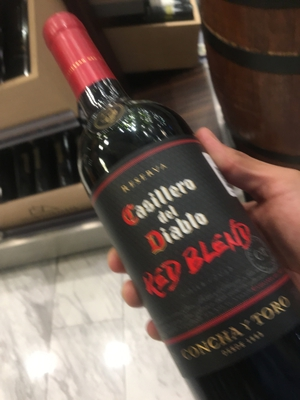casillero del diablo red blend: (44, 25, 300, 361)
